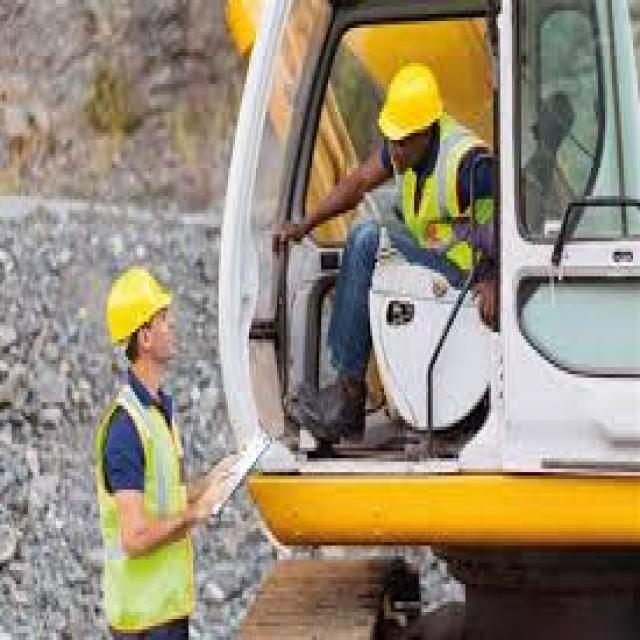Reflective-Jacket: (84, 378, 202, 636), (396, 116, 512, 290)
Safety-Helmet: (368, 52, 454, 158), (95, 255, 184, 357)
